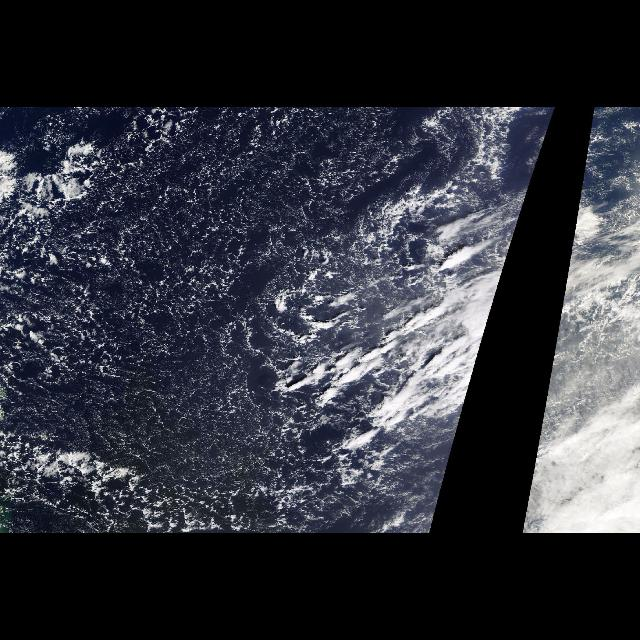Gravel: (0, 113, 364, 532)
Sugar: (0, 317, 274, 487), (129, 138, 293, 308)
